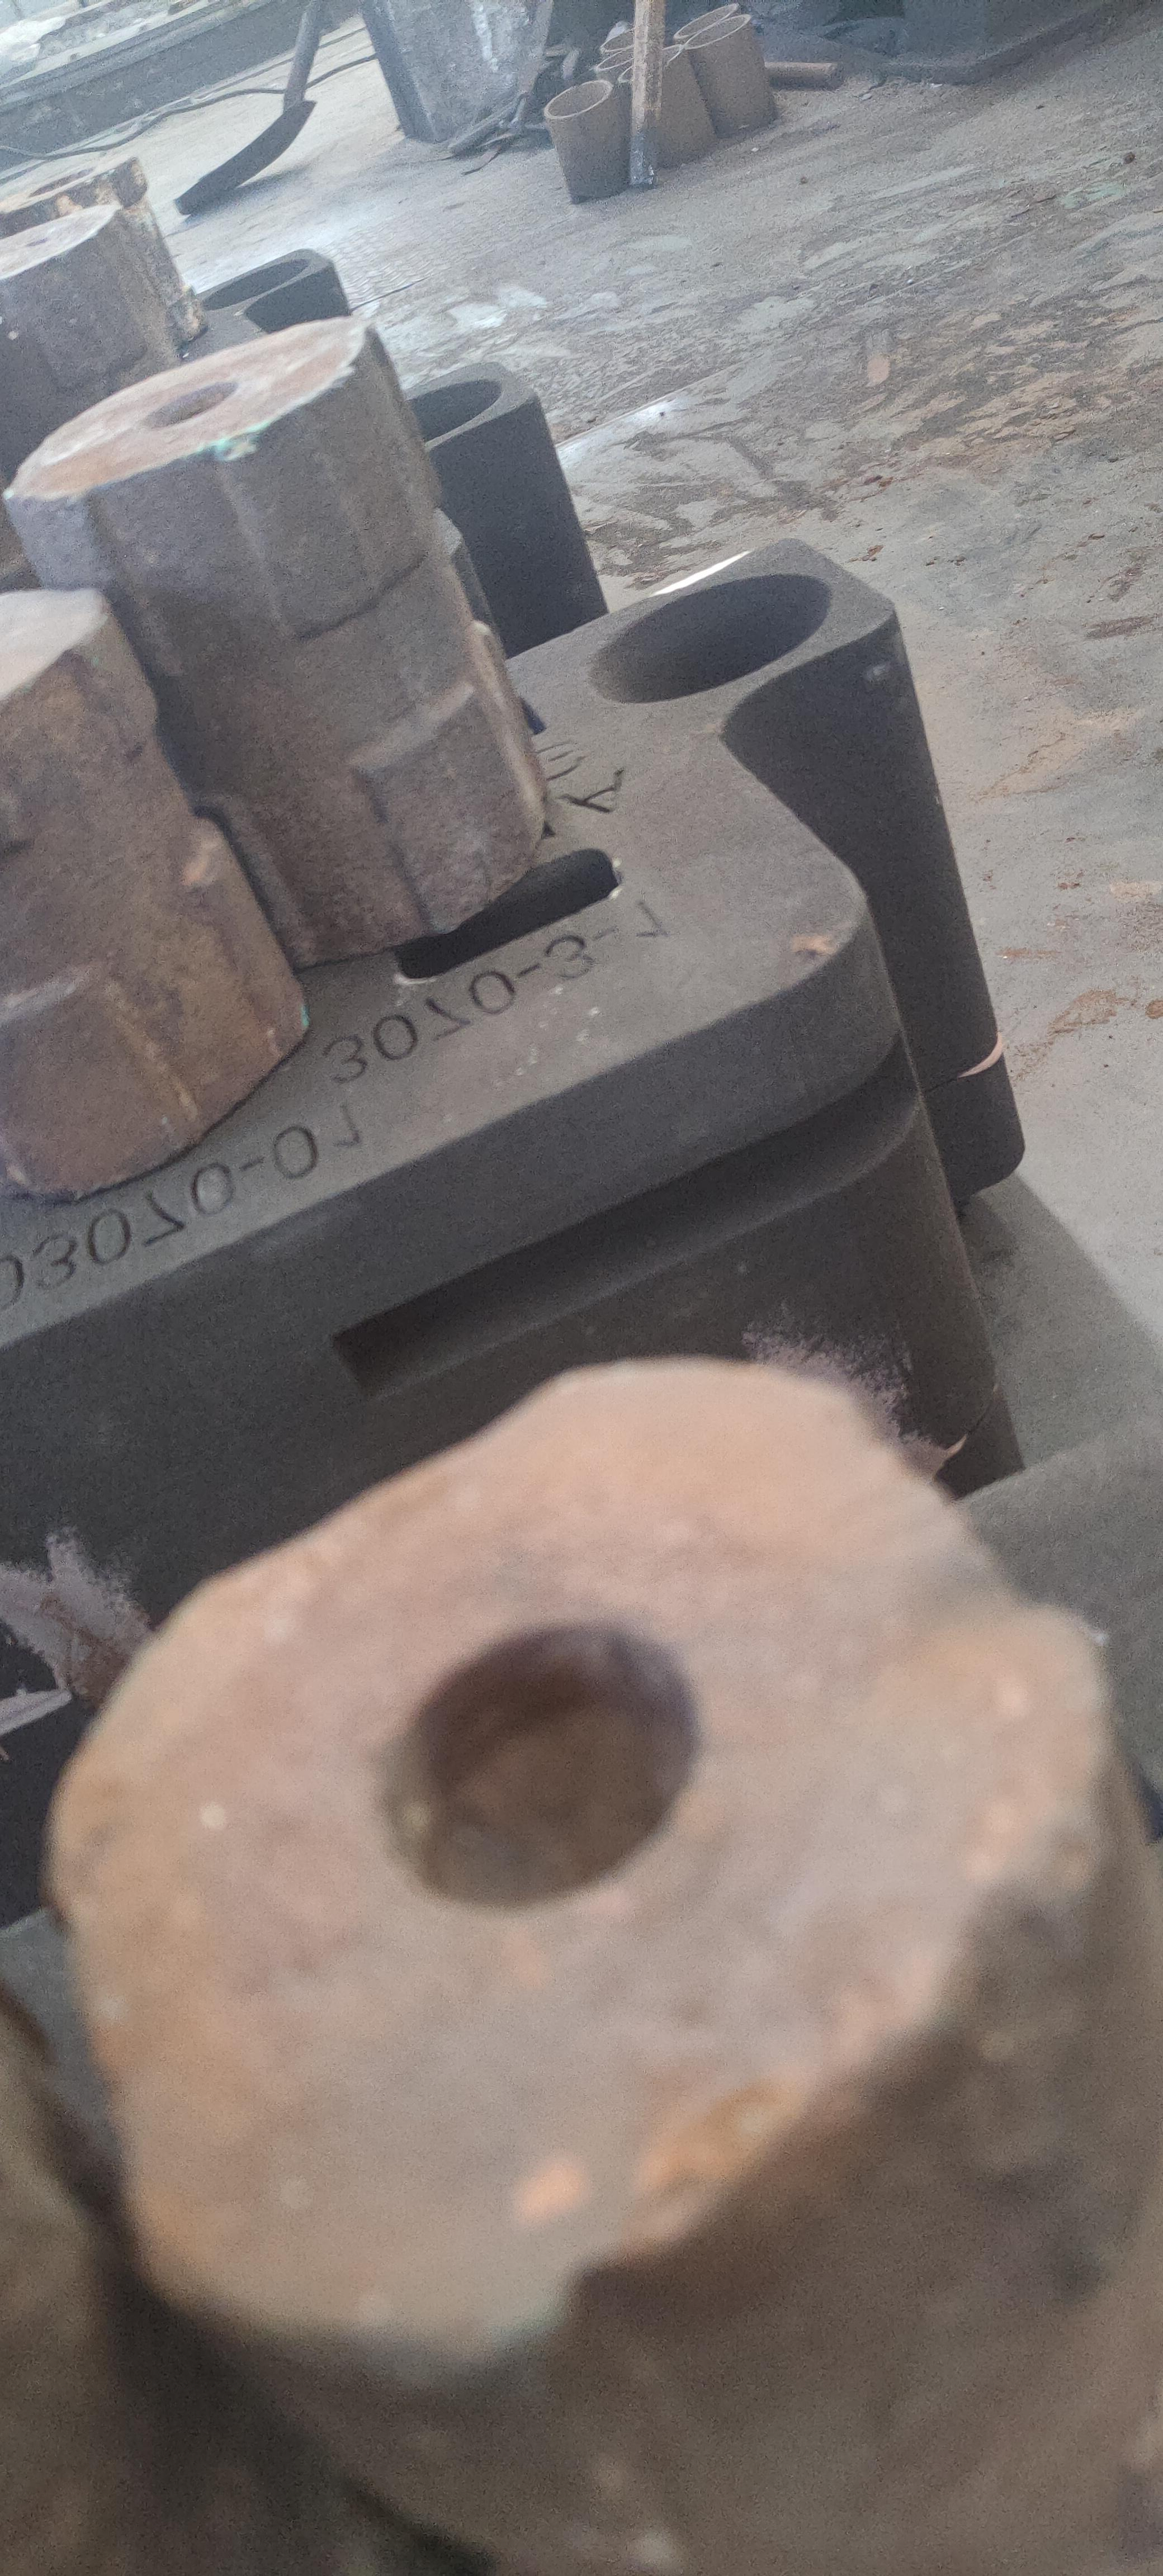pouring hole: (585, 572, 831, 705), (363, 379, 503, 458), (194, 258, 312, 310), (544, 79, 611, 118), (683, 13, 751, 53), (675, 3, 741, 41), (618, 44, 682, 80), (600, 15, 655, 53), (596, 41, 657, 71)
